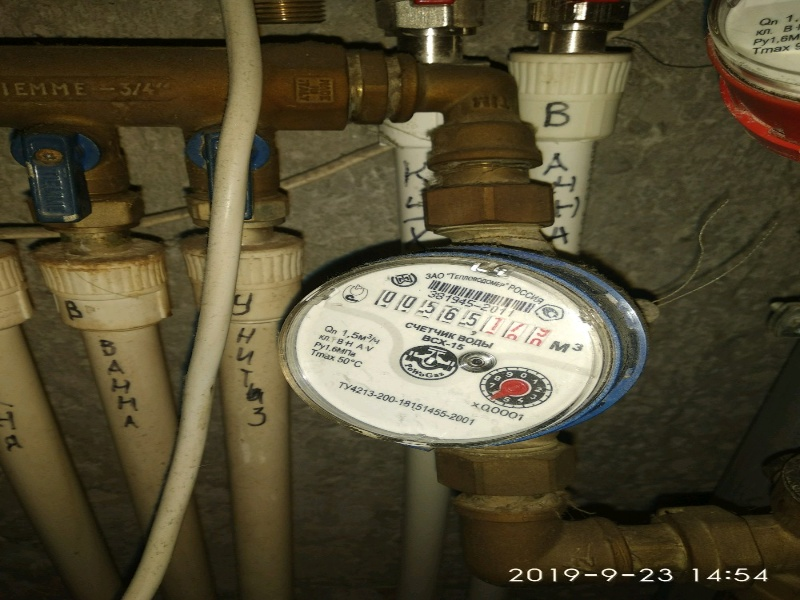meter: (362, 299, 537, 336)
